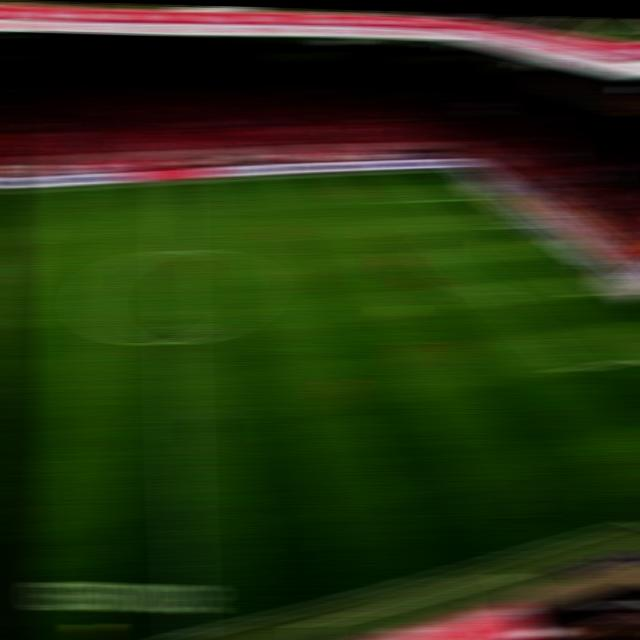bigarea_bottom_inner: (556, 365, 585, 378)
bigarea_top_inner: (390, 196, 419, 207)
bigarea_top_outter: (476, 193, 506, 205)
bottom_arc_area_intersection: (481, 289, 512, 302)
corner: (438, 165, 467, 177)
halfcircle_bottom: (160, 335, 192, 350)
halfcircle_top: (159, 244, 190, 257)
midline_bottom_intersection: (170, 629, 205, 640)
midline_top_intersection: (158, 177, 188, 189)
smallarea_bottom_inner: (570, 290, 600, 301)
smallarea_bottom_outter: (603, 286, 632, 298)
smallarea_top_inner: (486, 221, 516, 233)
smallarea_top_outter: (516, 221, 546, 234)
top_arc_area_intersection: (425, 232, 455, 244)
